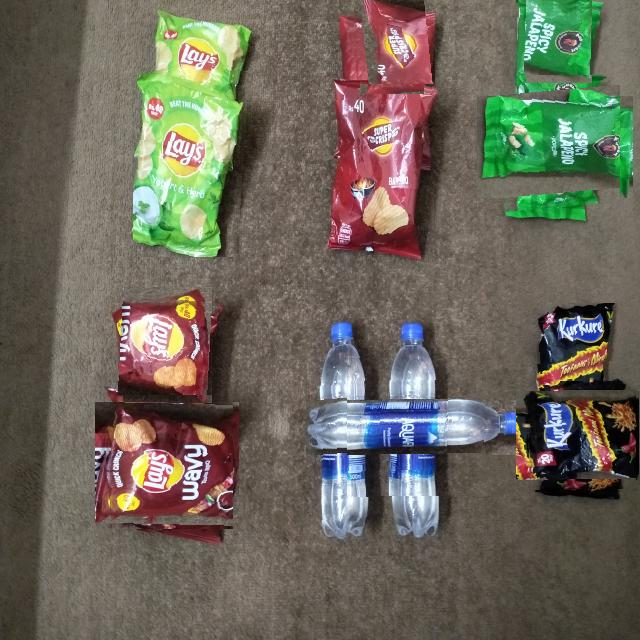Plastic: (133, 71, 250, 257), (331, 77, 437, 267), (347, 358, 486, 497), (101, 395, 233, 529), (490, 83, 620, 212), (317, 318, 374, 544), (526, 381, 636, 490), (116, 293, 218, 395), (349, 0, 435, 84), (517, 0, 600, 75), (150, 13, 260, 69), (533, 303, 617, 364)
